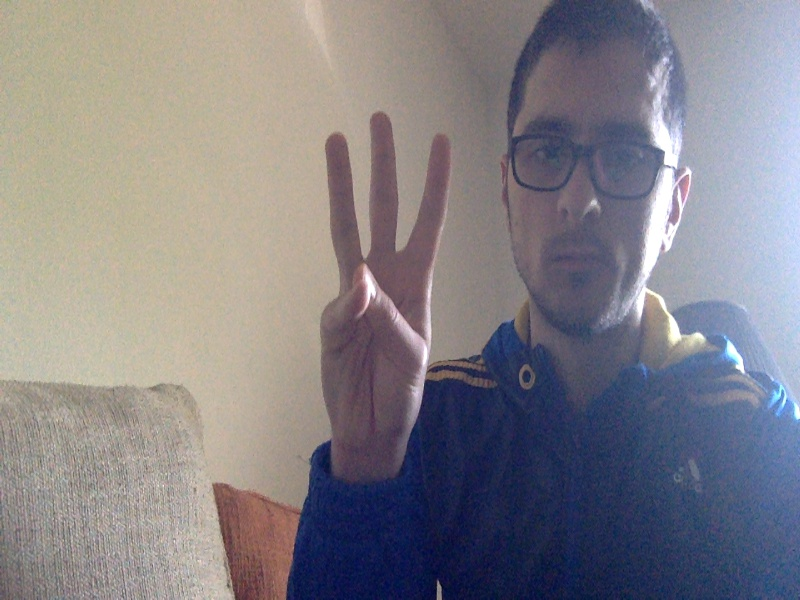3-hand: (321, 112, 451, 453)
